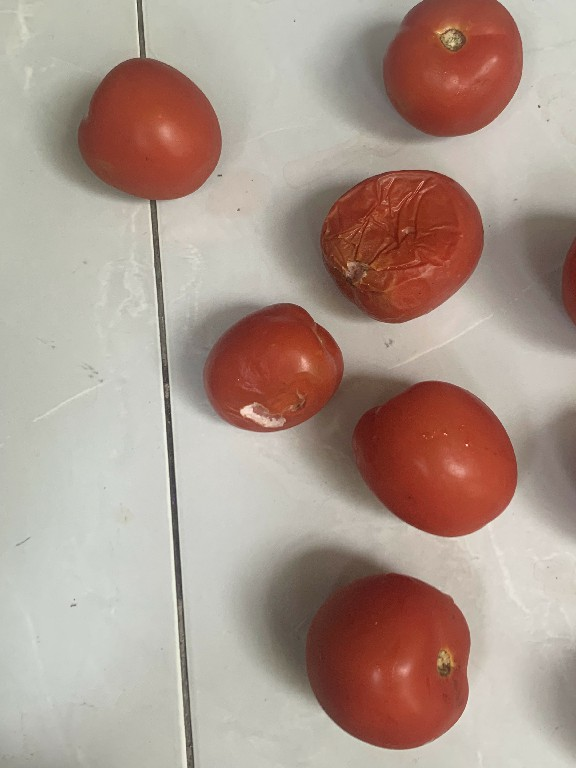NG: (311, 158, 480, 326), (193, 296, 347, 441)
OK: (299, 562, 482, 759), (334, 376, 530, 538), (61, 51, 234, 203), (369, 2, 532, 147)
